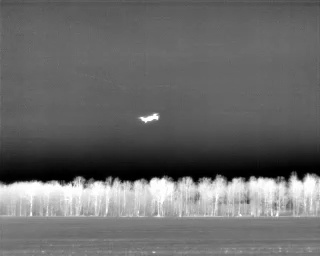DRONE: (135, 108, 164, 128)
